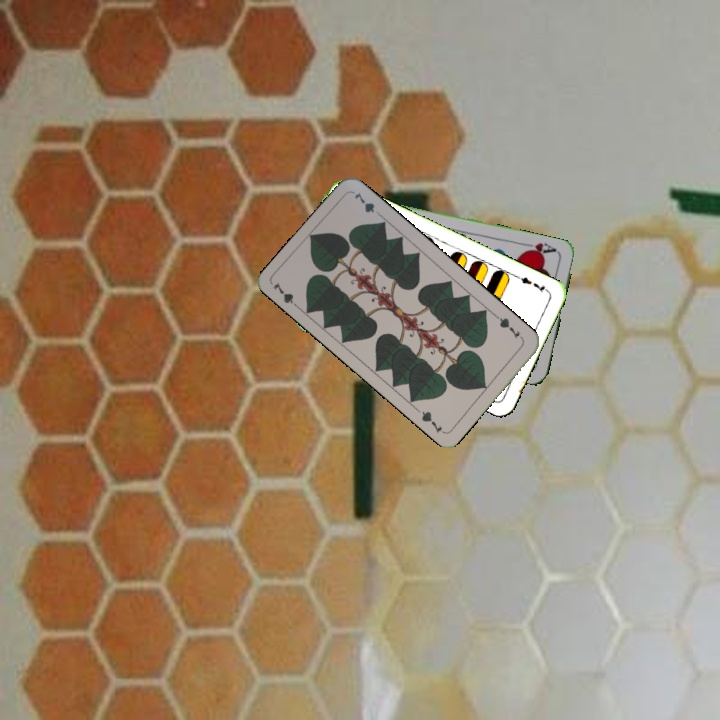E7: (513, 272, 551, 295)
G7: (269, 278, 303, 312), (492, 312, 526, 343)
HA: (519, 238, 559, 258)
